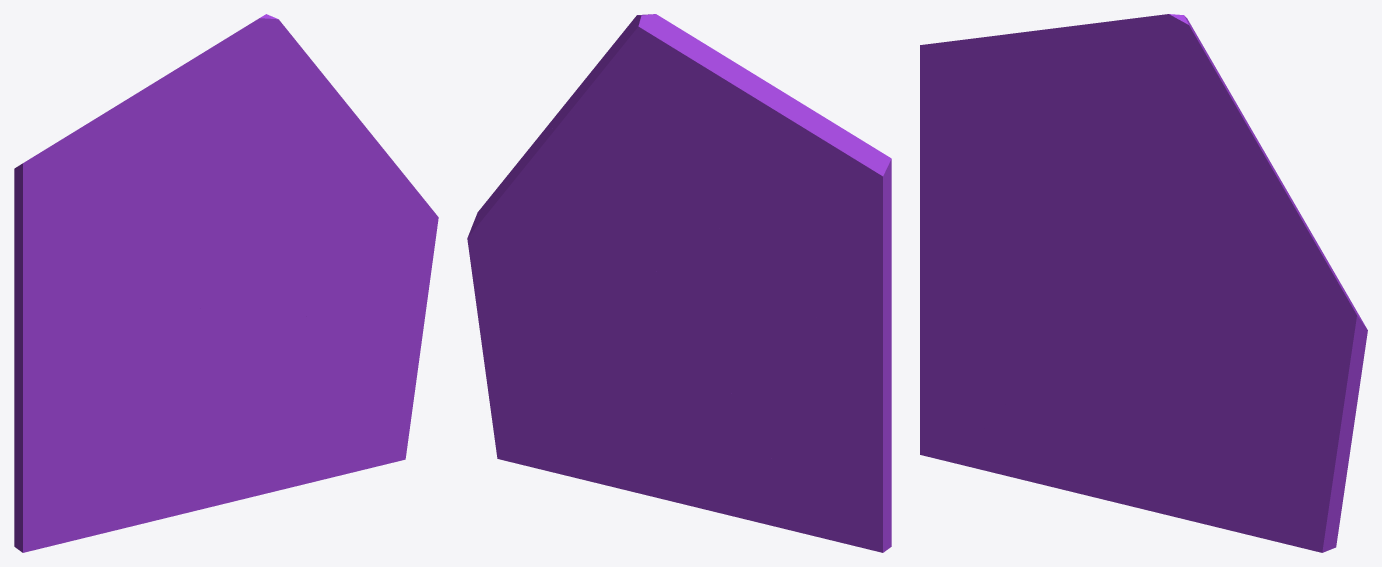
The model's file is Glass_83_1_14_chunks.fbx.
3 renders of one model, left to right at view 1: azimuth 30°, elevation 25°; view 2: azimuth 150°, elevation 25°; view 3: azimuth 330°, elevation 25°, orthographic. The views are drawn at different scales.
Parts seen in each view (by area): view 1: Glass_83_1_14_2, Glass_83_1_14_0, Glass_83_1_14_1, Glass_83_1_14_12, Glass_83_1_14_7, Glass_83_1_14_5, Glass_83_1_14_3, Glass_83_1_14_9, Glass_83_1_14_13, Glass_83_1_14_6, Glass_83_1_14_8, Glass_83_1_14_15 (+3 smaller); view 2: Glass_83_1_14_0, Glass_83_1_14_1, Glass_83_1_14_7, Glass_83_1_14_2, Glass_83_1_14_9, Glass_83_1_14_12, Glass_83_1_14_5, Glass_83_1_14_13, Glass_83_1_14_11, Glass_83_1_14_3, Glass_83_1_14_8, Glass_83_1_14_15 (+3 smaller); view 3: Glass_83_1_14_2, Glass_83_1_14_0, Glass_83_1_14_1, Glass_83_1_14_7, Glass_83_1_14_12, Glass_83_1_14_5, Glass_83_1_14_3, Glass_83_1_14_9, Glass_83_1_14_13, Glass_83_1_14_6, Glass_83_1_14_8, Glass_83_1_14_15 (+3 smaller).
Boxes of the visible parts, x1,y1,x2,y2 form: Glass_83_1_14_2: [14, 185, 194, 377]; Glass_83_1_14_0: [14, 268, 224, 552]; Glass_83_1_14_1: [14, 20, 257, 192]; Glass_83_1_14_12: [56, 383, 217, 544]; Glass_83_1_14_7: [306, 288, 428, 474]; Glass_83_1_14_5: [171, 237, 341, 356]; Glass_83_1_14_3: [165, 76, 257, 284]; Glass_83_1_14_9: [276, 165, 438, 268]; Glass_83_1_14_13: [238, 362, 342, 499]; Glass_83_1_14_6: [289, 252, 431, 363]; Glass_83_1_14_8: [257, 70, 320, 240]; Glass_83_1_14_15: [155, 345, 304, 410]; Glass_83_1_14_0: [643, 230, 891, 552]; Glass_83_1_14_1: [657, 15, 891, 193]; Glass_83_1_14_7: [473, 269, 615, 477]; Glass_83_1_14_2: [714, 187, 891, 371]; Glass_83_1_14_9: [467, 150, 643, 278]; Glass_83_1_14_12: [668, 386, 818, 537]; Glass_83_1_14_5: [555, 248, 710, 359]; Glass_83_1_14_13: [574, 365, 675, 502]; Glass_83_1_14_11: [548, 14, 658, 156]; Glass_83_1_14_3: [656, 94, 721, 260]; Glass_83_1_14_8: [591, 80, 656, 245]; Glass_83_1_14_15: [610, 350, 726, 412]; Glass_83_1_14_2: [920, 75, 1100, 270]; Glass_83_1_14_0: [920, 259, 1131, 462]; Glass_83_1_14_1: [920, 14, 1166, 148]; Glass_83_1_14_7: [1218, 367, 1361, 552]; Glass_83_1_14_12: [954, 344, 1124, 500]; Glass_83_1_14_5: [1075, 243, 1255, 372]; Glass_83_1_14_3: [1070, 74, 1166, 260]; Glass_83_1_14_9: [1186, 200, 1367, 370]; Glass_83_1_14_13: [1146, 398, 1255, 536]; Glass_83_1_14_6: [1200, 303, 1352, 401]; Glass_83_1_14_8: [1166, 67, 1232, 255]; Glass_83_1_14_15: [1058, 324, 1215, 418].
Bounding box in the file's own units: 756 × 825 × 27.2.
